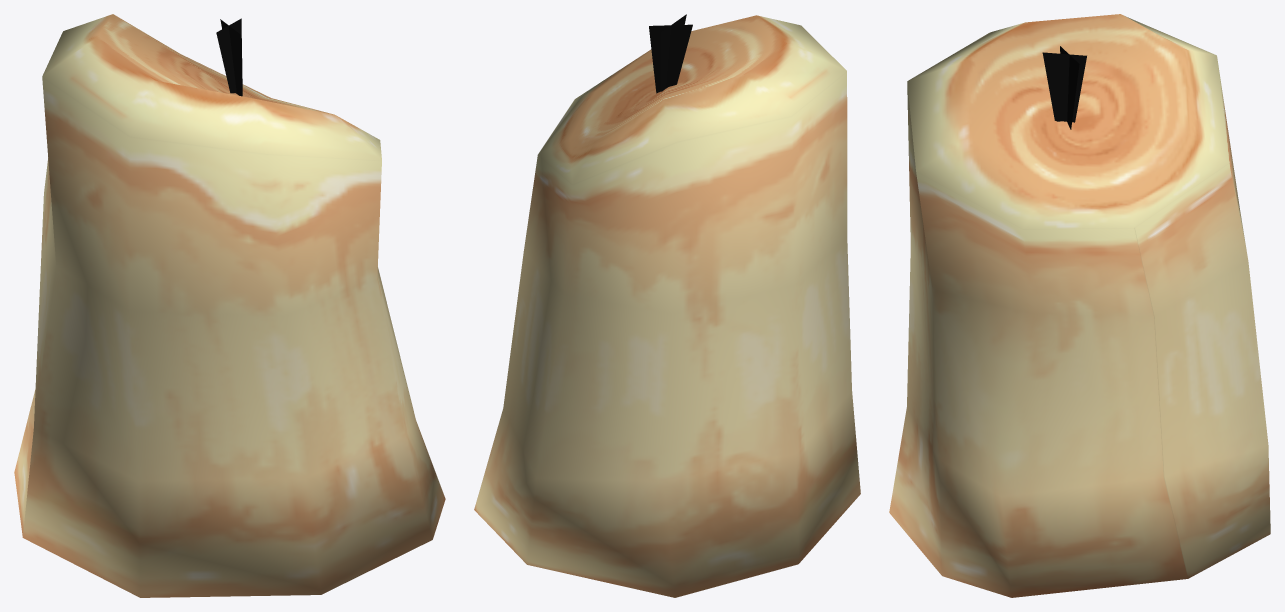
The model's file is SM_PROP_candle_battle_02.fbx.
3 renders of one model, left to right at view 1: azimuth 30°, elevation 25°; view 2: azimuth 150°, elevation 25°; view 3: azimuth 270°, elevation 25°, orthographic. The views are drawn at different scales.
Parts seen in each view (by area): view 1: SM_PROP_candle_battle_02; view 2: SM_PROP_candle_battle_02; view 3: SM_PROP_candle_battle_02.
Boxes of the visible parts, bbox=[...] form: SM_PROP_candle_battle_02: bbox=[14, 14, 445, 597]; SM_PROP_candle_battle_02: bbox=[474, 14, 860, 597]; SM_PROP_candle_battle_02: bbox=[889, 14, 1270, 597].
Size of the model in its own units: 13.8 by 18.52 by 13.85.
